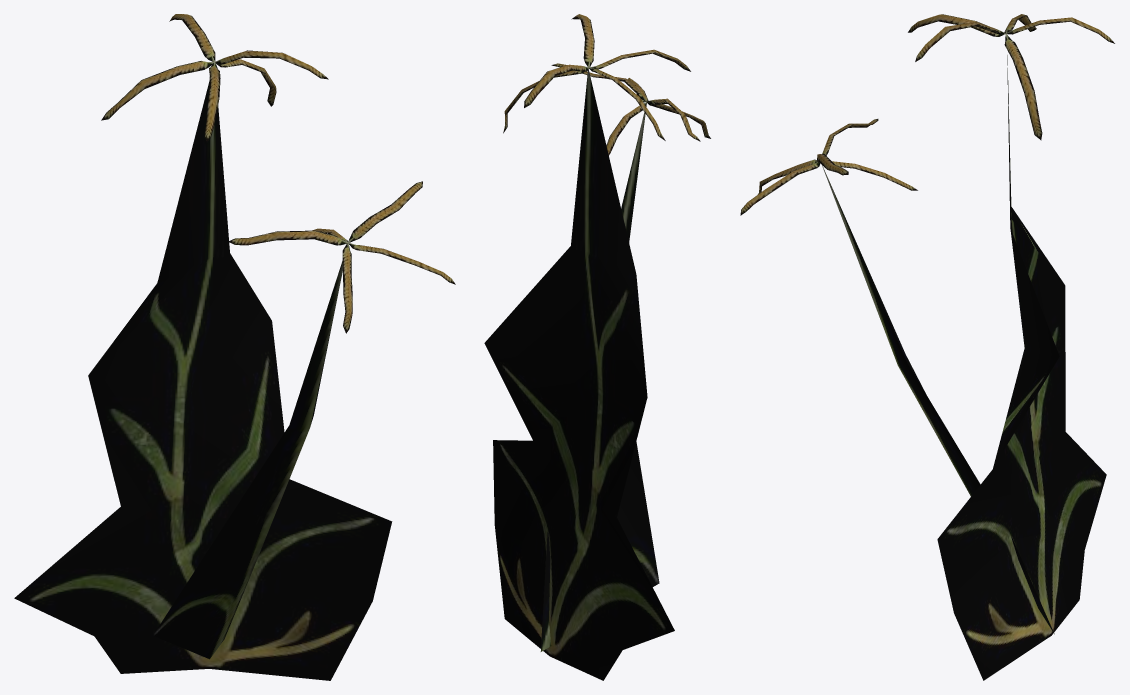
3 renders of one model, left to right at view 1: azimuth 30°, elevation 25°; view 2: azimuth 150°, elevation 25°; view 3: azimuth 270°, elevation 25°, orthographic. The views are drawn at different scales.
Visible parts, largest first — view 1: grass_bermuda_01_seedling_d; view 2: grass_bermuda_01_seedling_d; view 3: grass_bermuda_01_seedling_d.
Part boxes in pixels (x1,y1,x2,y2): grass_bermuda_01_seedling_d: (14, 14, 455, 680); grass_bermuda_01_seedling_d: (484, 14, 710, 680); grass_bermuda_01_seedling_d: (740, 14, 1114, 680).
Bounding box in the file's own units: 0.0696 × 0.1522 × 0.0831.
Materials: 1 (1 with a texture image).
